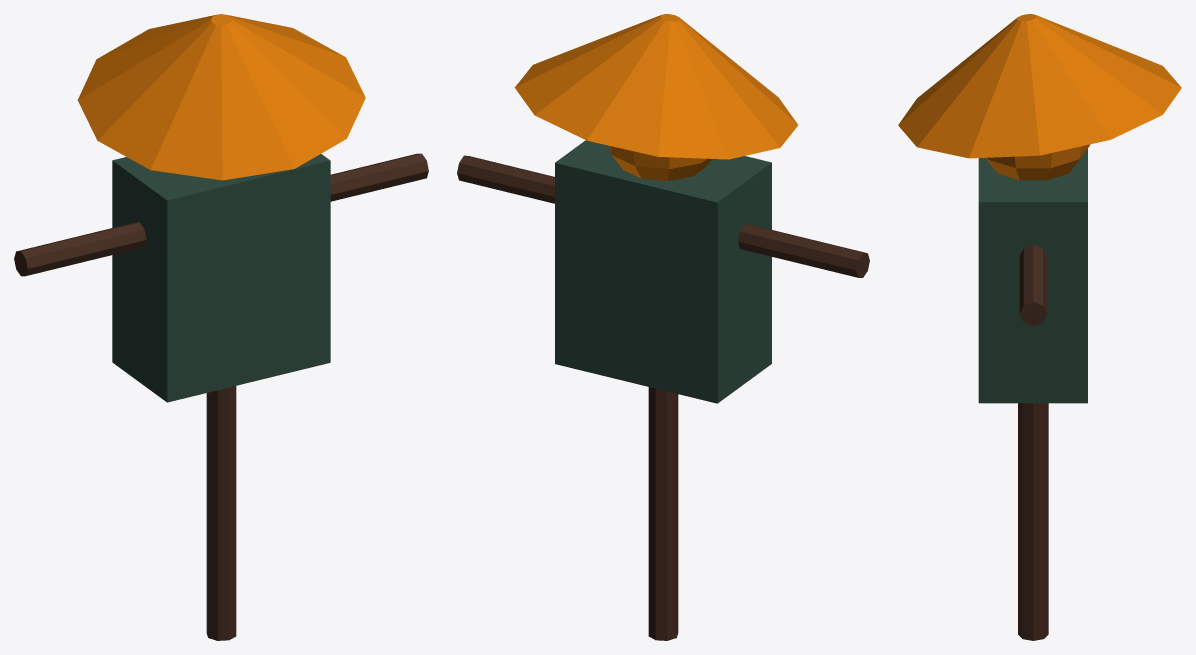
The model's file is espantapajaros.glb.
The picture shows the model from 3 angles, left to right: view 1: azimuth 30°, elevation 25°; view 2: azimuth 150°, elevation 25°; view 3: azimuth 270°, elevation 25°; orthographic projection.
Visible parts, largest first — view 1: Cube, Cone, Cylinder, Cylinder.001; view 2: Cube, Cone, Cylinder, Cylinder.001, Sphere; view 3: Cone, Cube, Cylinder, Sphere, Cylinder.001.
Part boxes in pixels (<box>): Cube: <box>112,154,330,402</box>; Cone: <box>77,14,365,180</box>; Cylinder: <box>206,386,236,640</box>; Cylinder.001: <box>14,153,428,276</box>; Cube: <box>555,140,771,403</box>; Cone: <box>514,14,798,159</box>; Cylinder: <box>648,387,678,640</box>; Cylinder.001: <box>457,155,869,277</box>; Sphere: <box>609,146,711,180</box>; Cone: <box>898,14,1181,158</box>; Cube: <box>978,148,1087,403</box>; Cylinder: <box>1018,403,1048,640</box>; Sphere: <box>986,144,1090,180</box>; Cylinder.001: <box>1019,244,1046,326</box>.
Bounding box in the file's own units: 1.35 × 1.99 × 0.8318.
